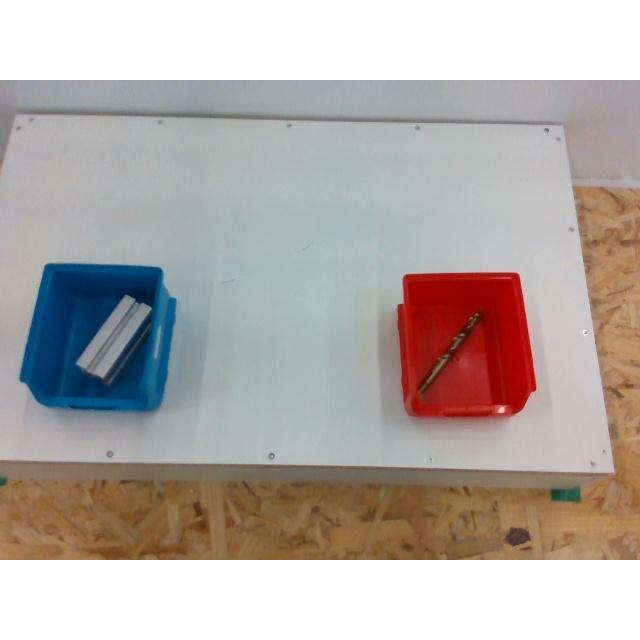Drill: (416, 312, 480, 392)
S40_40_G: (74, 296, 150, 382)
container_box_blue: (21, 264, 176, 410)
container_box_red: (398, 270, 540, 418)
